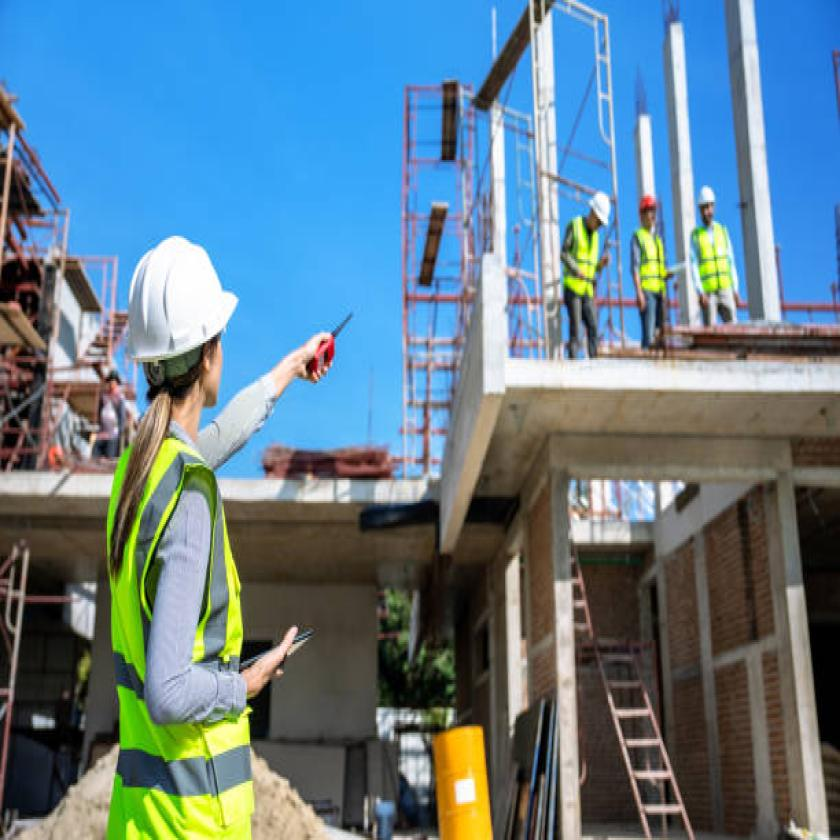Con_casco: (92, 217, 260, 476), (578, 176, 615, 243), (692, 175, 726, 234), (637, 174, 662, 246)
